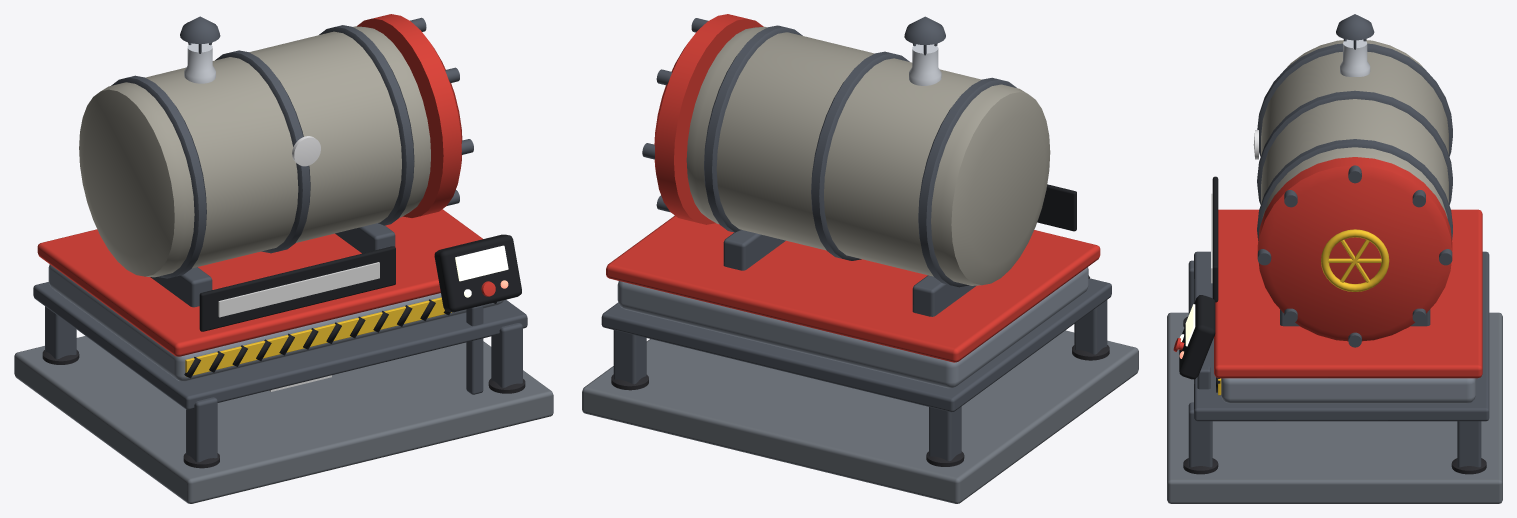
File: Autoclave.fbx
3 renders of one model, left to right at view 1: azimuth 30°, elevation 25°; view 2: azimuth 150°, elevation 25°; view 3: azimuth 270°, elevation 25°, orthographic. The views are drawn at different scales.
Visible parts, largest first — view 1: Body__StoneLight, Body__Plate, Body__MetalDark, Body__Red, Body__Black, Body__Steel, Body__Yellow, Body__NeonRed!1, Body__NeonGreen, Body__Chrome, Body__Rubber, Body__White; view 2: Body__StoneLight, Body__Plate, Body__Red, Body__MetalDark, Body__Steel, Body__Black, Body__Chrome, Body__Rubber; view 3: Body__Red, Body__Plate, Body__MetalDark, Body__StoneLight, Body__Steel, Body__Black, Body__Yellow, Body__Chrome, Body__Rubber.
Boxes of the visible parts, x1,y1,x2,y2 form: Body__StoneLight: [79, 26, 430, 277]; Body__Plate: [14, 336, 553, 503]; Body__MetalDark: [33, 16, 527, 462]; Body__Red: [37, 14, 495, 356]; Body__Black: [184, 234, 521, 378]; Body__Steel: [48, 264, 503, 381]; Body__Yellow: [185, 297, 451, 376]; Body__NeonRed!1: [218, 262, 379, 317]; Body__NeonGreen: [455, 245, 508, 297]; Body__Chrome: [184, 43, 215, 83]; Body__Rubber: [42, 350, 525, 468]; Body__White: [292, 136, 320, 166]; Body__StoneLight: [686, 26, 1050, 285]; Body__Plate: [582, 330, 1138, 503]; Body__Red: [606, 14, 1100, 362]; Body__MetalDark: [601, 16, 1111, 461]; Body__Steel: [617, 267, 1088, 388]; Body__Black: [1037, 184, 1089, 278]; Body__Chrome: [909, 44, 941, 85]; Body__Rubber: [611, 345, 1109, 466]; Body__Red: [1173, 157, 1482, 378]; Body__Plate: [1167, 312, 1502, 503]; Body__MetalDark: [1188, 14, 1489, 467]; Body__StoneLight: [1261, 40, 1448, 218]; Body__Steel: [1221, 378, 1475, 403]; Body__Black: [1179, 176, 1220, 392]; Body__Yellow: [1218, 229, 1389, 395]; Body__Chrome: [1340, 39, 1370, 76]; Body__Rubber: [1183, 316, 1486, 474].
Bounding box in the file's own units: 6 × 6.62 × 5.
